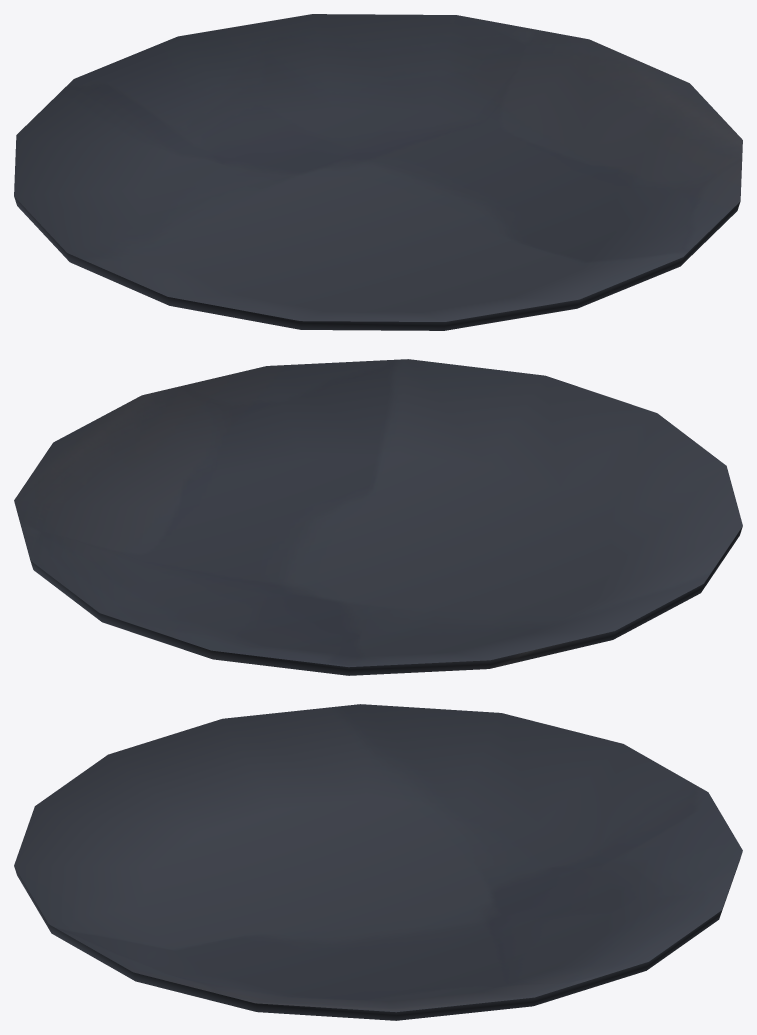
The model's file is Plate.fbx.
The picture shows the model from 3 angles, top to bottom: view 1: azimuth 30°, elevation 25°; view 2: azimuth 150°, elevation 25°; view 3: azimuth 270°, elevation 25°; orthographic projection.
Visible parts, largest first — view 1: Plate; view 2: Plate; view 3: Plate.
Boxes of the visible parts, x1=… form: Plate: x1=14, y1=14, x2=742, y2=330; Plate: x1=14, y1=359, x2=742, y2=675; Plate: x1=14, y1=704, x2=742, y2=1020.
Bounding box in the file's own units: 0.5178 × 0.0463 × 0.5178.
